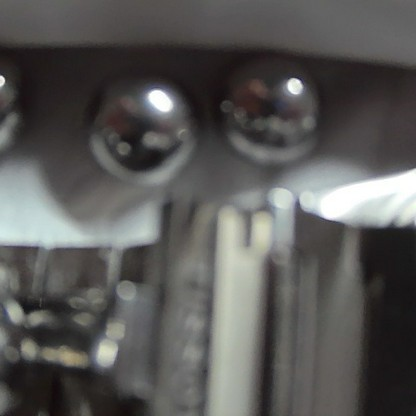ironball: (79, 68, 197, 188), (214, 60, 315, 165)
